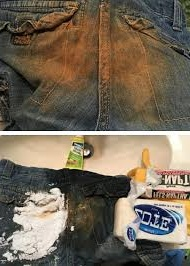earth: (47, 23, 109, 82), (112, 27, 150, 106)
